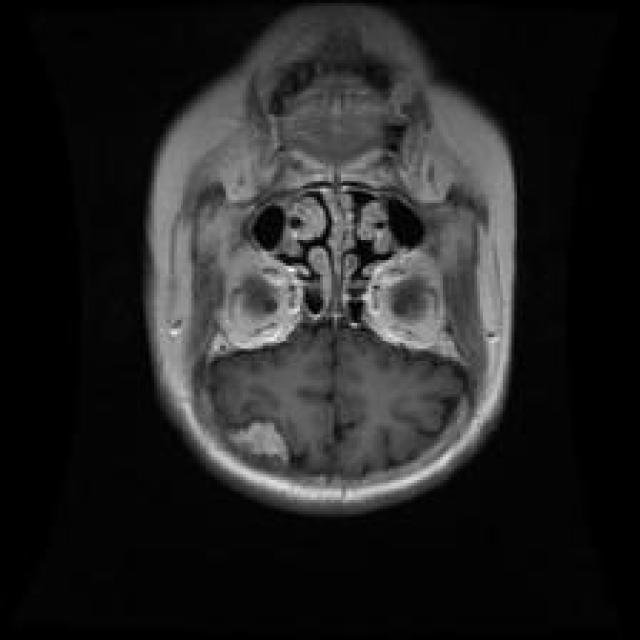meningioma_tumor: (215, 413, 302, 481)
